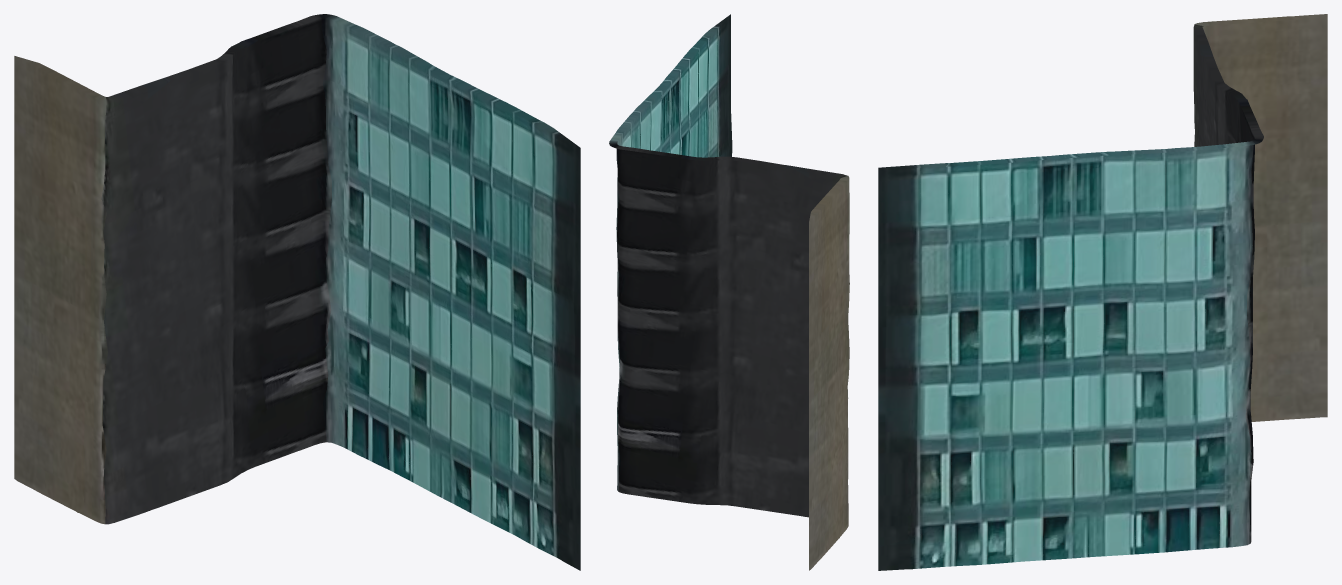
File: z20-167772-405237-h1-yup-uvflip-v3-world.glb
The picture shows the model from 3 angles, left to right: view 1: azimuth 30°, elevation 25°; view 2: azimuth 150°, elevation 25°; view 3: azimuth 270°, elevation 25°; orthographic projection. The views are drawn at different scales.
Bounding box in the file's own units: 19.6 × 24 × 24.24.
Materials: 1 (1 with a texture image).
